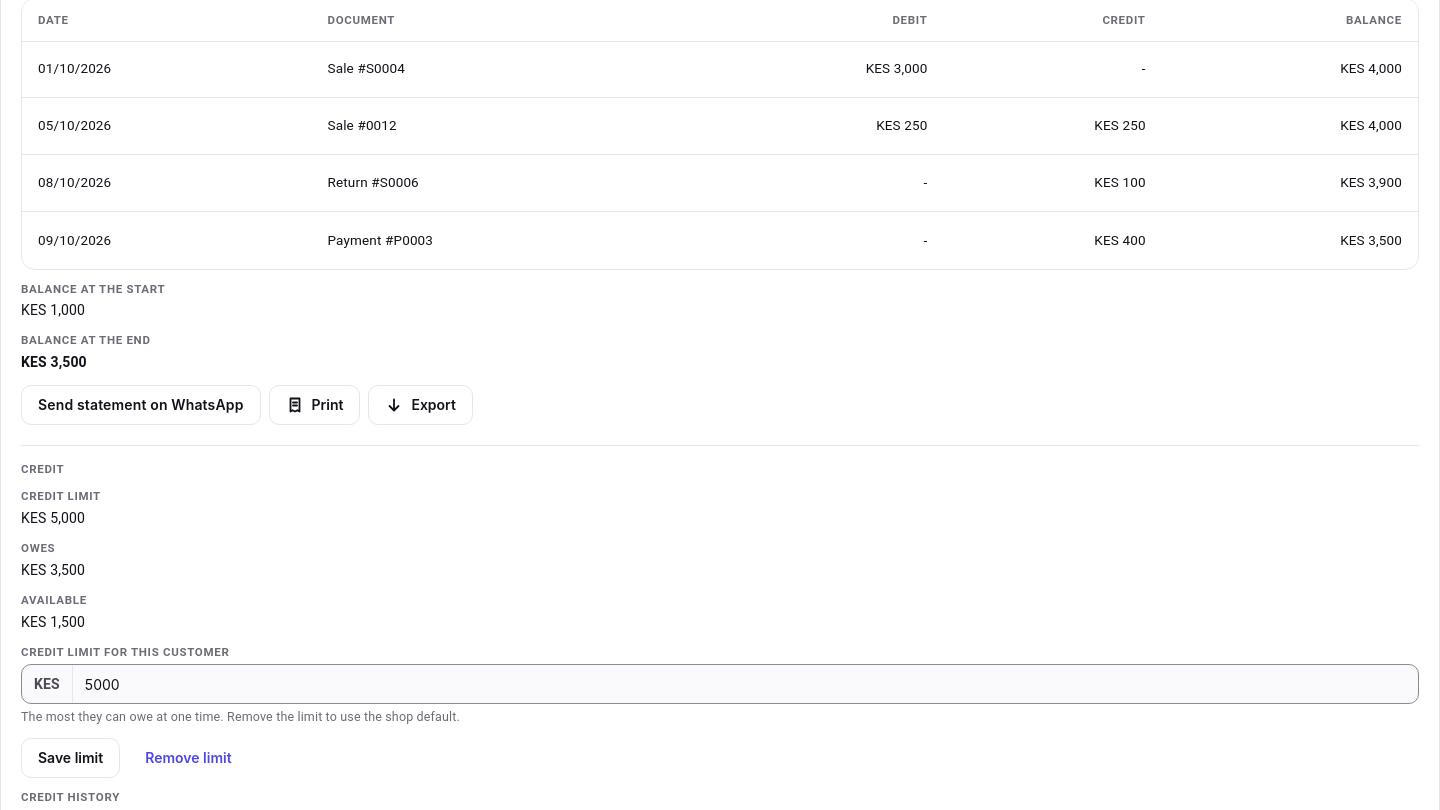
the statement (AC-28) › Export saves the lines as a spreadsheet with the balance at the start and the end
The image size is (1440, 810).
(page scrolled)
Expected: the table is shown, [22, 0, 1418, 268]
Click the button "Export" at (421, 405), box [368, 385, 473, 425]
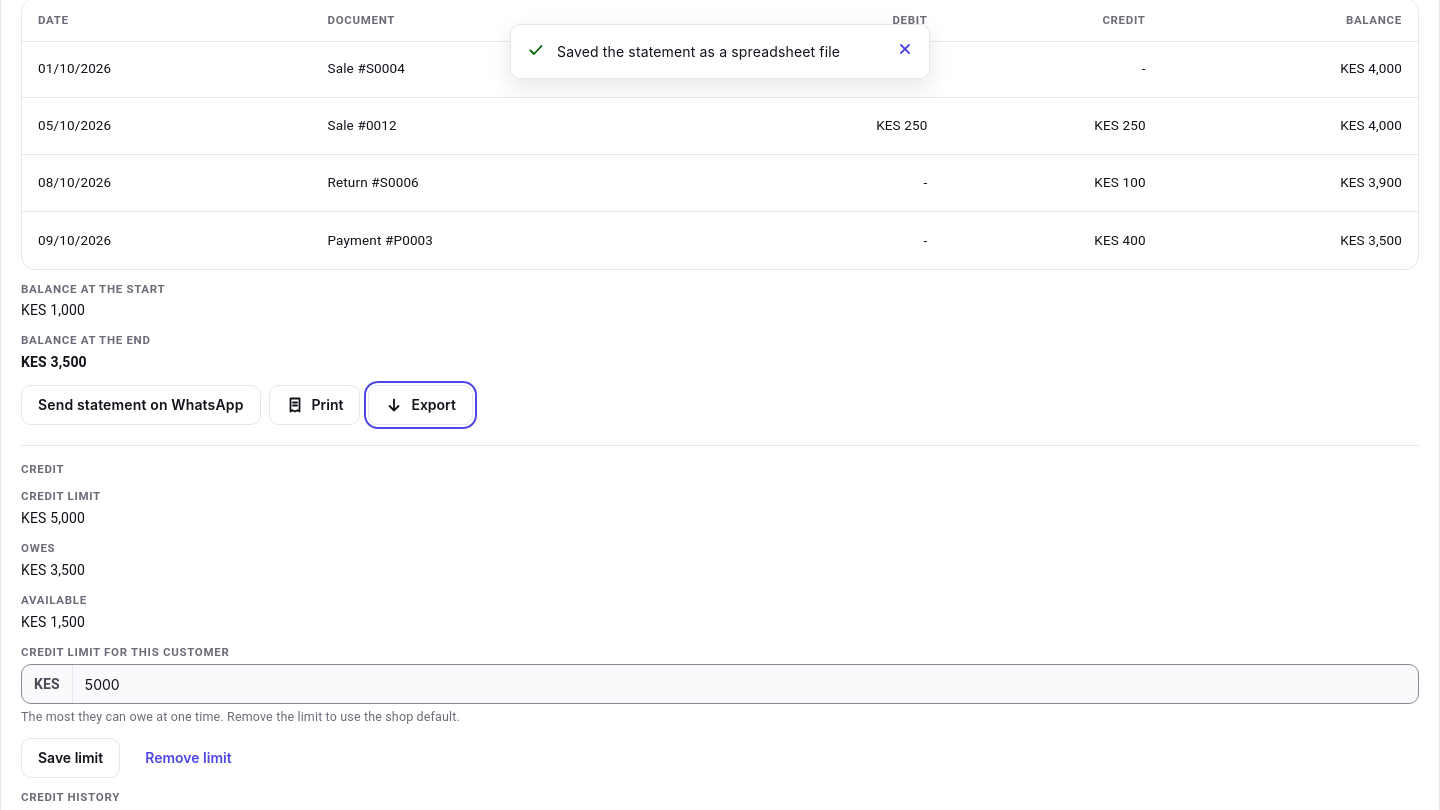
Expected: the text "Saved the statement as a spreadsheet file" is shown, [557, 43, 840, 60]
